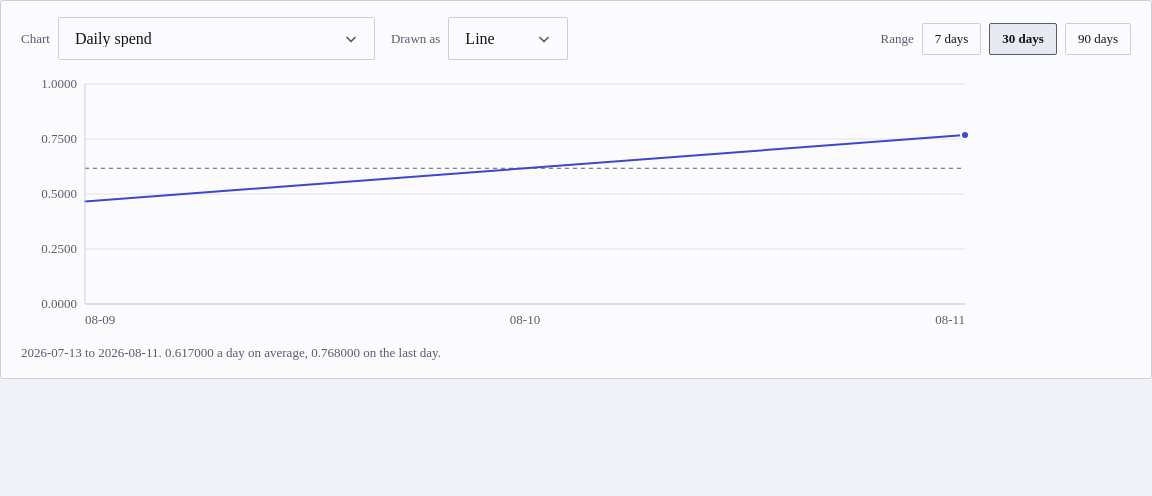
Test: admin cost charts (W11) › folds the charted mix to three models plus one residual band
Select "Spend by model over time" in the dropdown with test id "admin-cost-view" at (216, 38), box [58, 17, 375, 60]
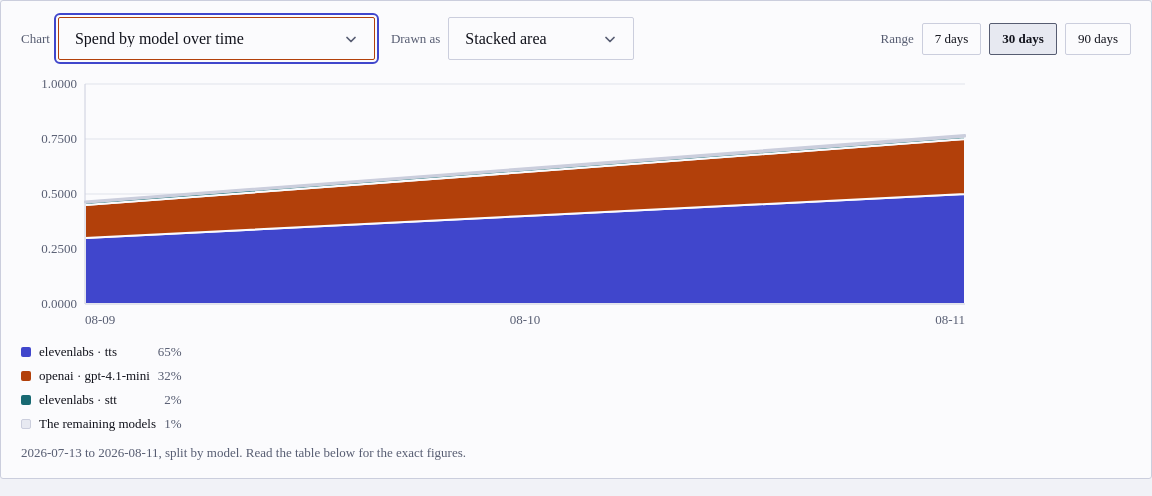
Expected: the list item "The remaining models 1%" is shown, [21, 416, 182, 432]
